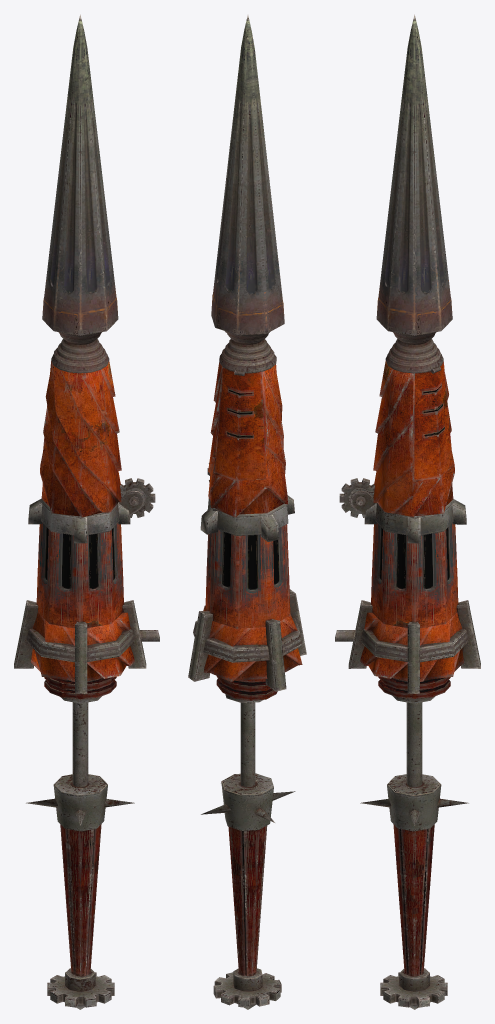
File: gun002.obj
The picture shows the model from 3 angles, left to right: view 1: azimuth 90°, elevation 25°; view 2: azimuth 210°, elevation 25°; view 3: azimuth 270°, elevation 25°; orthographic projection.
Visible parts, largest first — view 1: gun002_000_LOD_1, gun002_001_LOD_1; view 2: gun002_000_LOD_1, gun002_001_LOD_1, gun002_002_LOD_1; view 3: gun002_000_LOD_1, gun002_001_LOD_1, gun002_002_LOD_1.
Part boxes in pixels (bbox=[...]): gun002_000_LOD_1: bbox=[14, 478, 159, 1009]; gun002_001_LOD_1: bbox=[40, 14, 146, 517]; gun002_000_LOD_1: bbox=[188, 463, 306, 1009]; gun002_001_LOD_1: bbox=[208, 15, 288, 517]; gun002_002_LOD_1: bbox=[215, 367, 265, 480]; gun002_000_LOD_1: bbox=[335, 478, 480, 1009]; gun002_001_LOD_1: bbox=[348, 14, 454, 517]; gun002_002_LOD_1: bbox=[414, 361, 452, 480].
Bounding box in the file's own units: 45.52 × 385 × 51.07.
